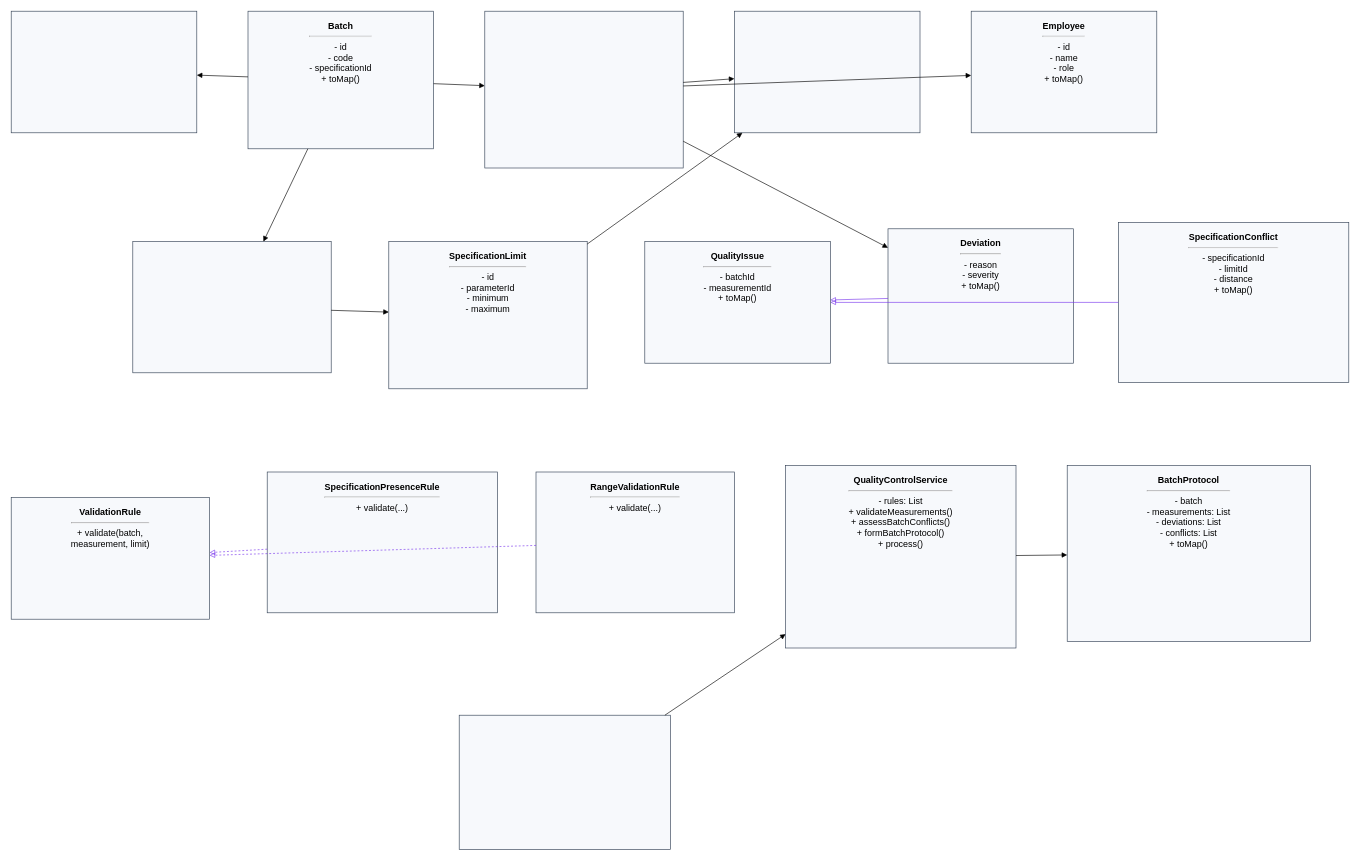
Image size: 1360x861. Some labels were removed from this diagram. The shapes that lost their labels are listed below. From the top down, each one's box as (x1, y1, x2, y2) in pixels, then its label:
(11, 11, 197, 133): RawMaterialLot - id - supplier - variety - receivedAt
(484, 11, 683, 168): Measurement - id - batchId - parameterId - value - measuredAt + toMap()
(734, 11, 920, 133): Parameter - id - name - unit + toMap()
(132, 241, 331, 373): Specification - id - version - effectiveFrom - limits: List
(459, 715, 670, 850): InputData - batch - measurements: List - specifications: List + fromMap()
